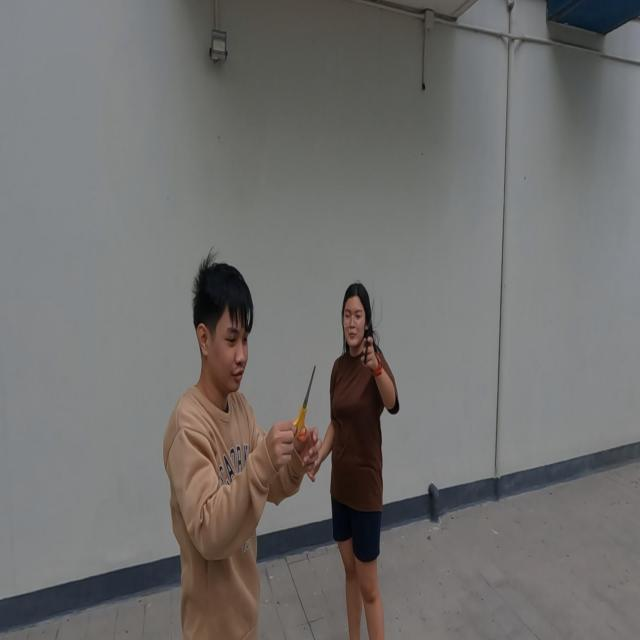scissor: (294, 364, 316, 440)
